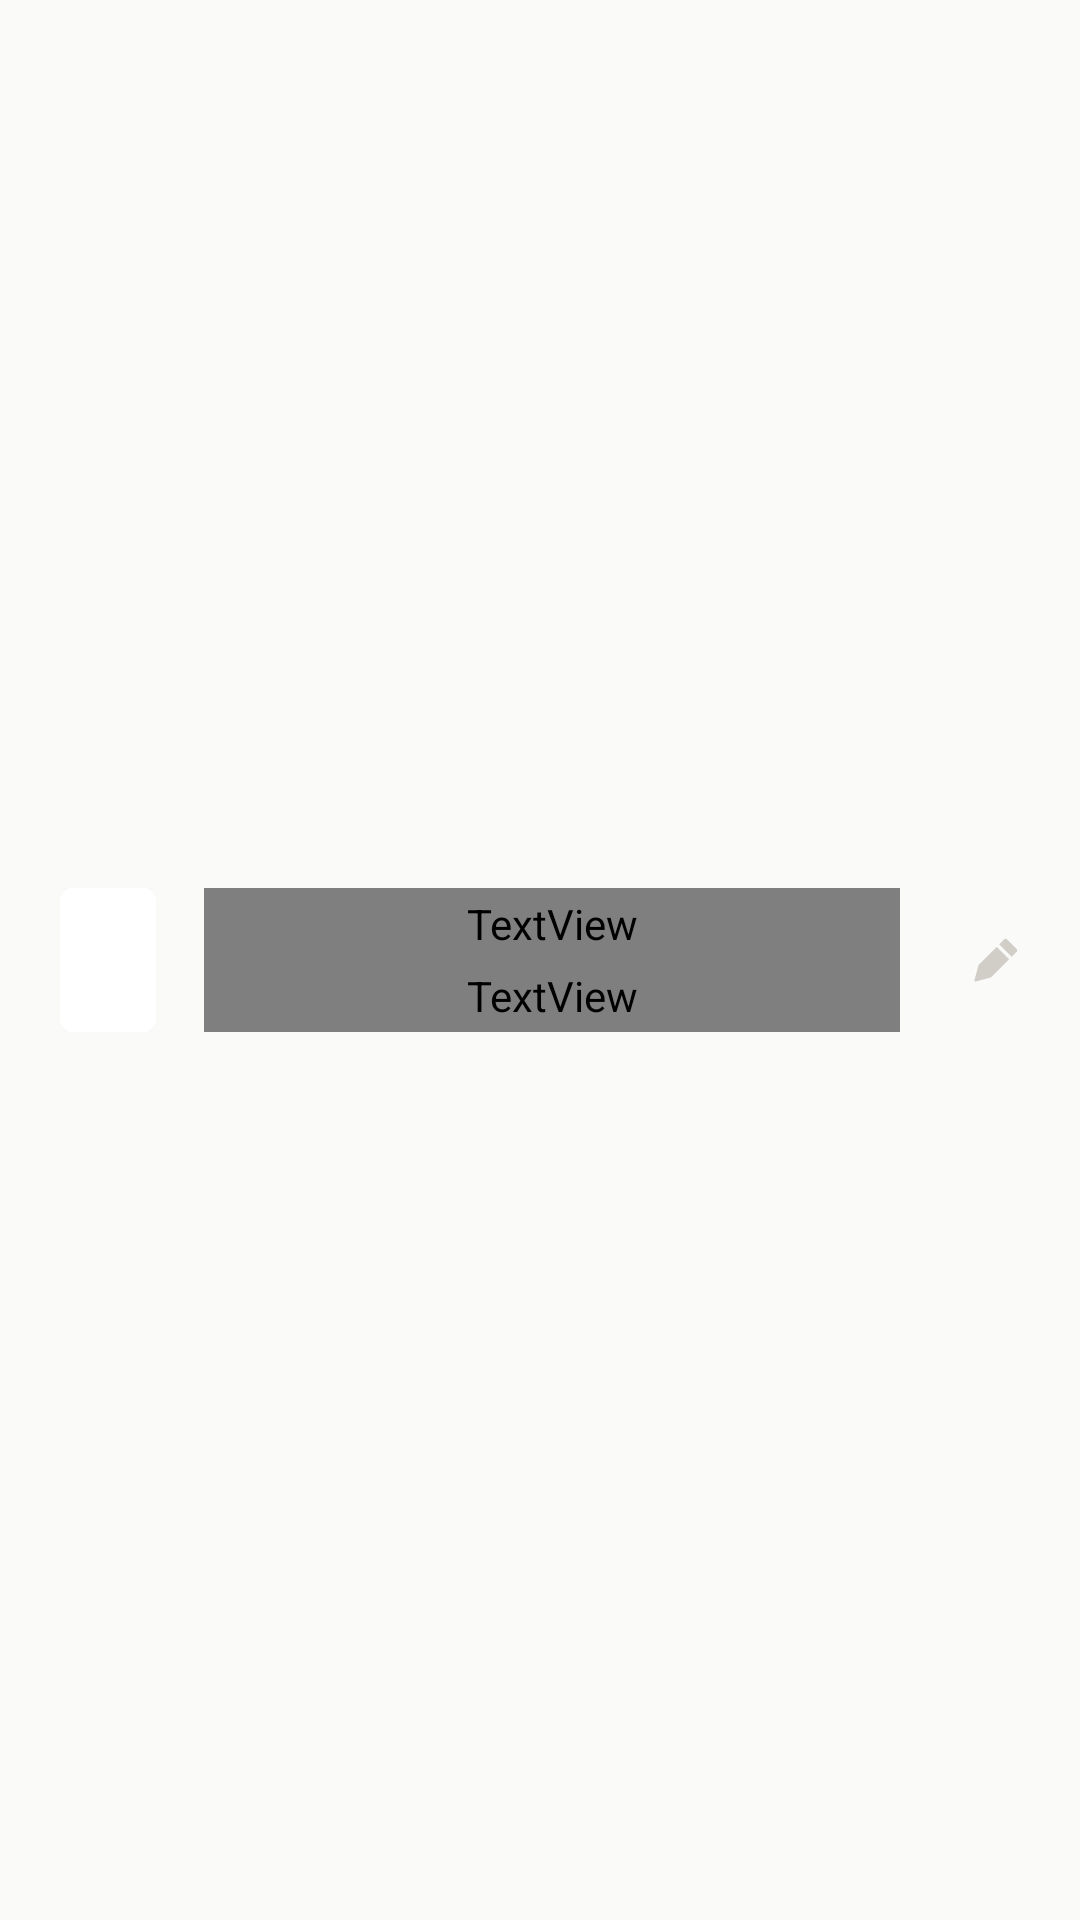

Named icons in this screenshot (1080x1920) and their centers, (x,y):
pencil mono: (995,960)
